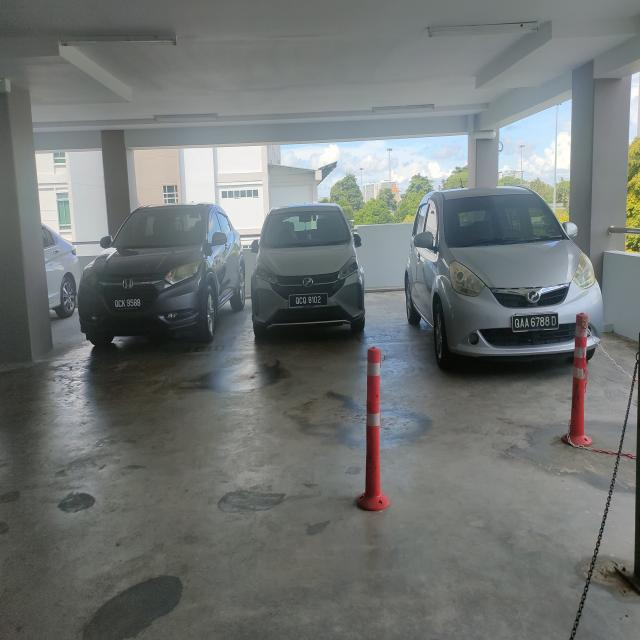PeroduaAxia: (244, 193, 378, 355)
PeroduaMyvi: (390, 177, 618, 394)
